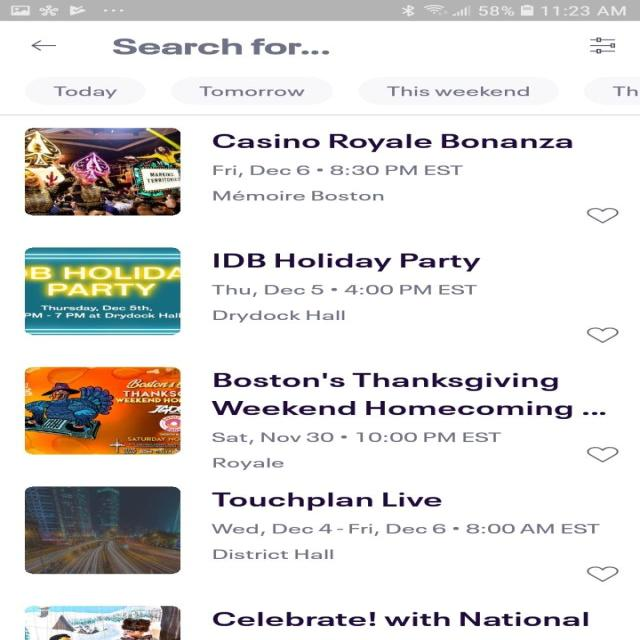Icon: (585, 446, 618, 463), (586, 565, 618, 582), (586, 327, 618, 343), (586, 208, 618, 223), (588, 37, 616, 54), (30, 40, 57, 52)
Image: (23, 127, 180, 216), (23, 247, 180, 335), (23, 486, 180, 574), (23, 367, 180, 454), (25, 605, 182, 640)
Text: (210, 372, 606, 419), (210, 523, 600, 559), (212, 432, 502, 471), (211, 284, 477, 322), (213, 165, 463, 201), (212, 134, 572, 152), (212, 611, 588, 626), (213, 252, 481, 272), (210, 492, 442, 511), (112, 38, 330, 55)
TextButton: (358, 77, 559, 106), (170, 77, 333, 105), (24, 77, 146, 105), (583, 77, 639, 105)
